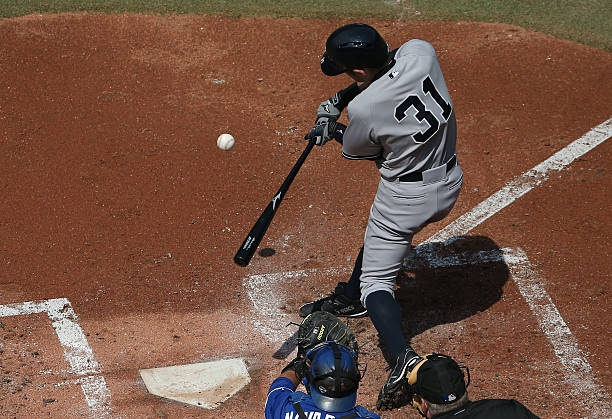bita: (231, 124, 317, 269)
